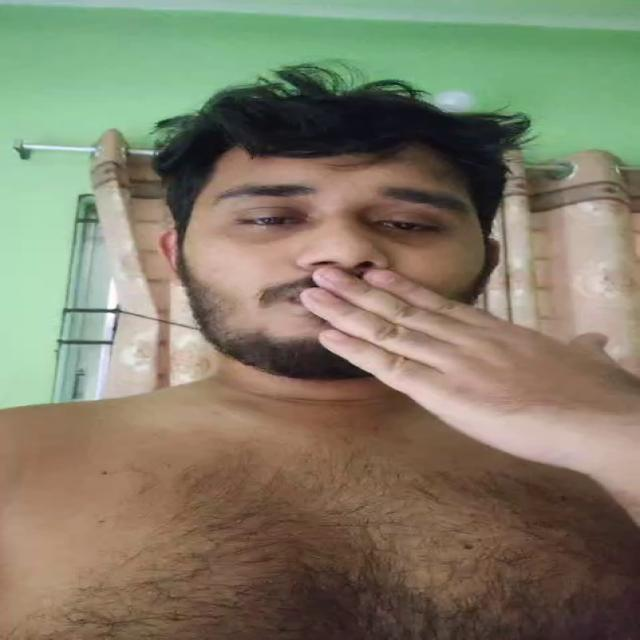Thanks: (300, 262, 637, 473)
